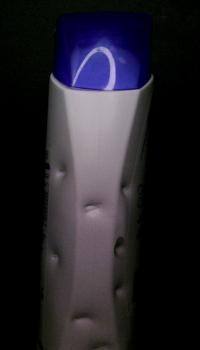dent_unacceptable: (102, 229, 127, 267), (69, 306, 107, 328), (47, 241, 71, 273), (82, 193, 110, 219), (115, 176, 137, 201), (50, 158, 74, 180), (110, 285, 132, 305)
